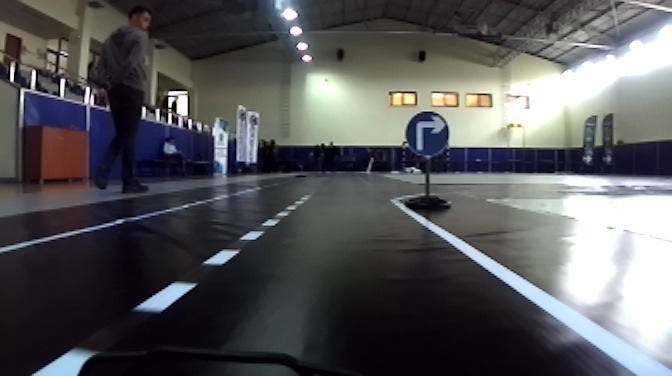saga_donus: (405, 111, 450, 156)
